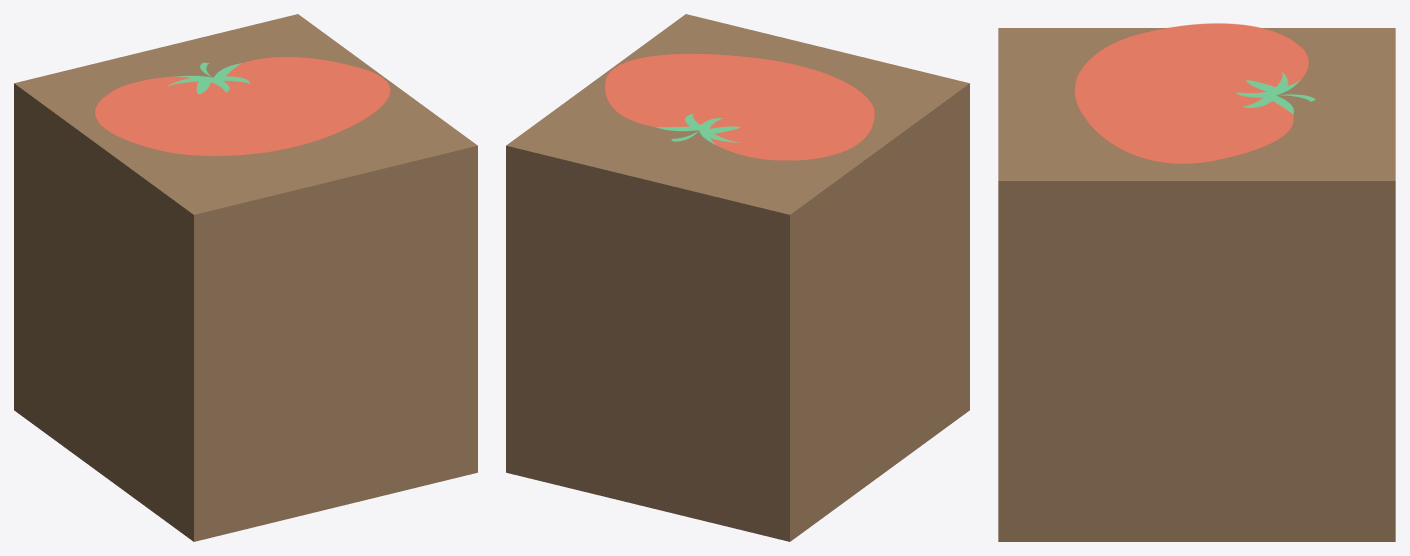
Rendered from tomato_box.glb.
3 renders of one model, left to right at view 1: azimuth 30°, elevation 25°; view 2: azimuth 150°, elevation 25°; view 3: azimuth 270°, elevation 25°, orthographic. The views are drawn at different scales.
Visible parts, largest first — view 1: Cube.039, Group 16; view 2: Cube.039, Group 16; view 3: Cube.039, Group 16.
Part boxes in pixels (x1,y1,x2,y2): Cube.039: (14,14,477,541); Group 16: (94,56,390,156); Cube.039: (506,14,969,541); Group 16: (604,53,874,160); Cube.039: (998,28,1395,541); Group 16: (1074,23,1315,163).
Size of the model in its own units: 1.84 by 2.02 by 1.95.
Materials: 2 (1 with a texture image).
